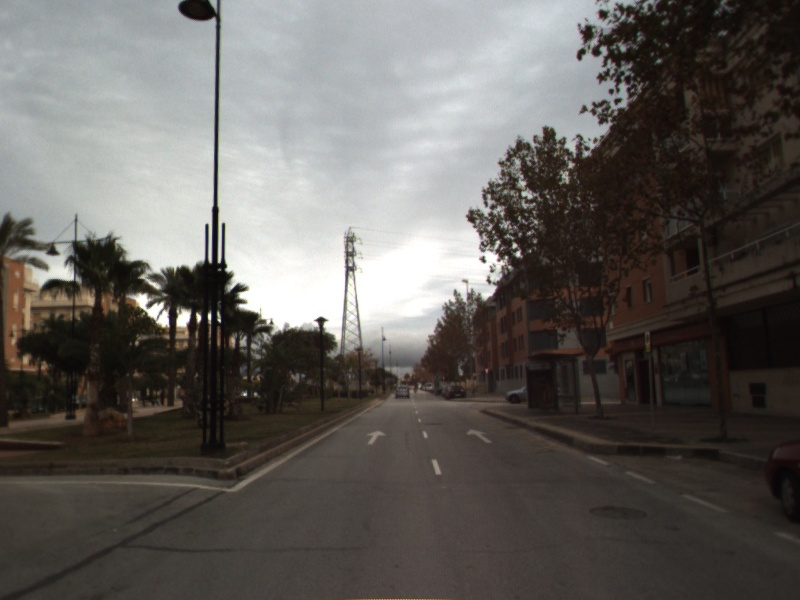STRAIGHT: (464, 427, 495, 445), (365, 428, 389, 446)
